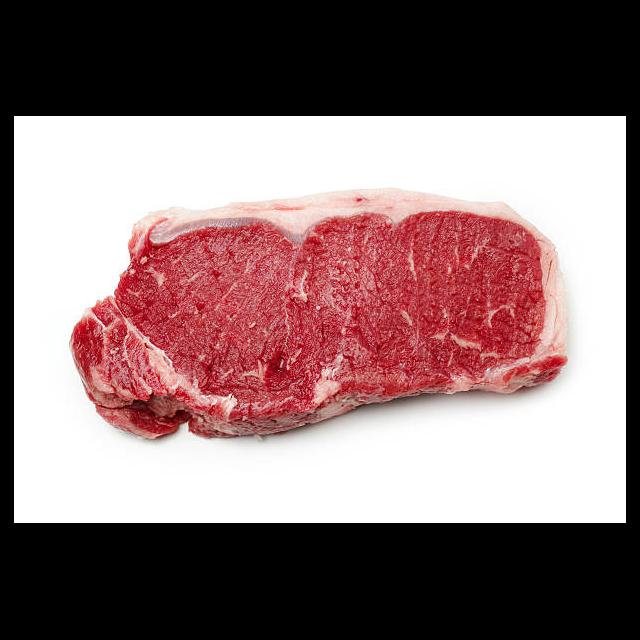beef: (67, 188, 570, 444)
